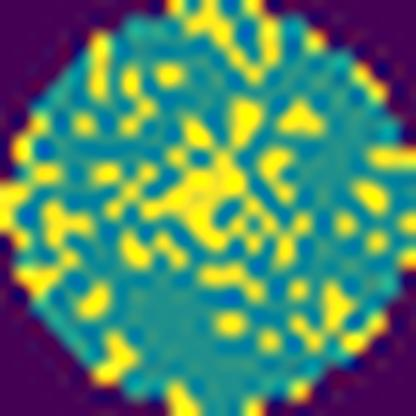Center: (97, 98, 298, 254)
